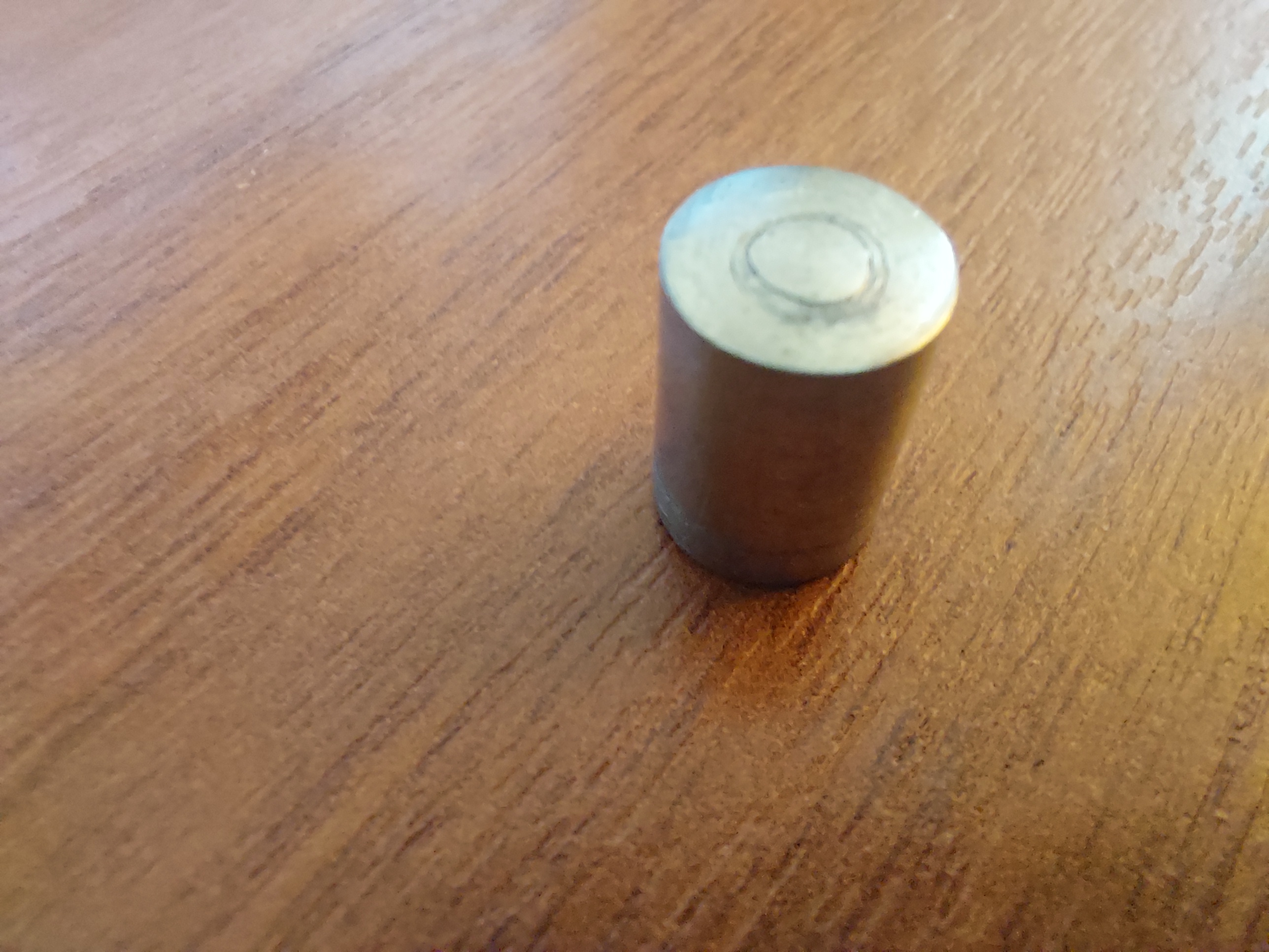tablet: (636, 160, 989, 613)
